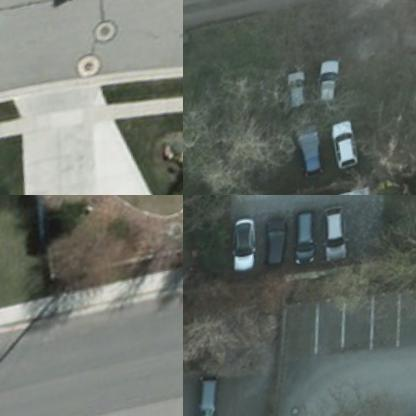car: (311, 60, 351, 120), (284, 212, 322, 272), (250, 214, 288, 274), (222, 222, 260, 282), (276, 73, 316, 123), (318, 212, 353, 269), (329, 125, 364, 176), (188, 377, 230, 415)
